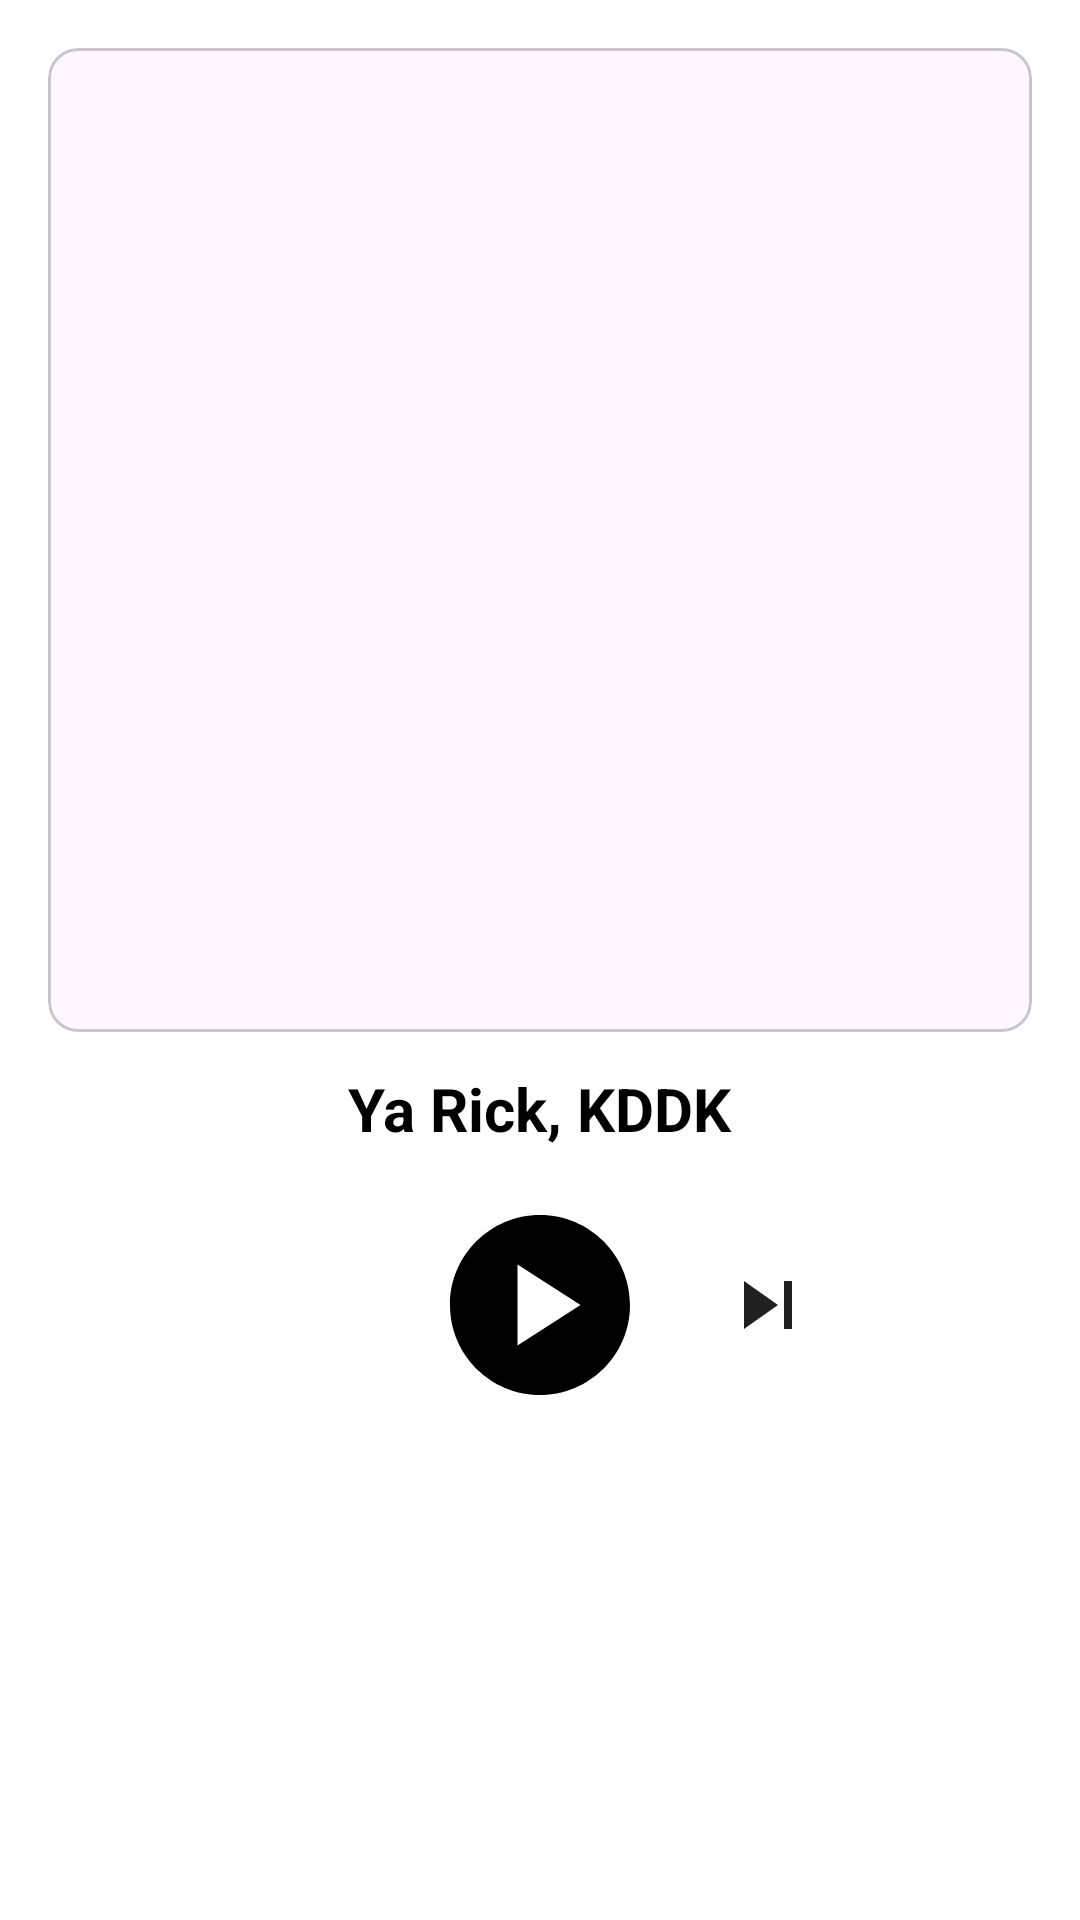

Icons on this 1080w x 1920h Android screen, each with its box as bbox(x1, y1, x2, y2):
next: bbox(744, 1281, 792, 1329)
play: bbox(449, 1215, 630, 1395)
